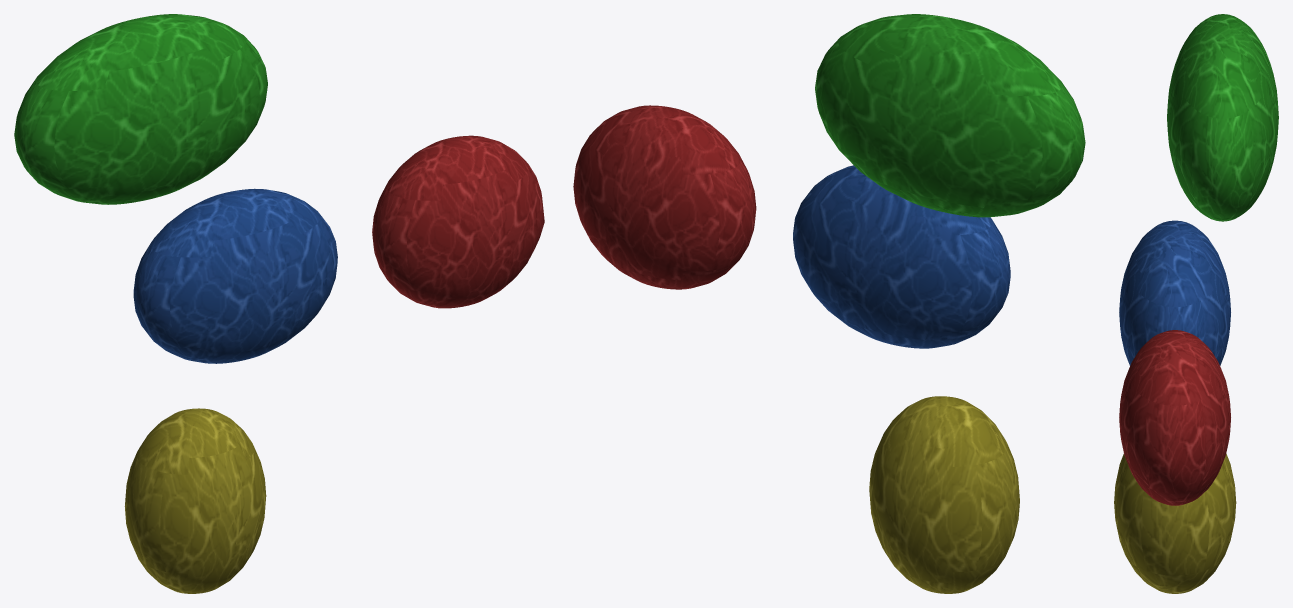
File: Batu_akik.fbx
3 views of the same model, side by side, from view 1: azimuth 30°, elevation 25°; view 2: azimuth 150°, elevation 25°; view 3: azimuth 270°, elevation 25° (orthographic). The views are drawn at different scales.
Visible parts, largest first — view 1: Akik4, Akik1, Akik 6, Akik2; view 2: Akik4, Akik1, Akik 6, Akik2; view 3: Akik4, Akik 6, Akik1, Akik2.
Part boxes in pixels (x1,y1,x2,y2): Akik4: (14,14,267,204); Akik1: (133,188,337,363); Akik 6: (372,135,544,308); Akik2: (124,408,266,593); Akik4: (815,14,1085,217); Akik1: (793,165,1010,348); Akik 6: (573,105,756,289); Akik2: (869,396,1019,593); Akik4: (1167,14,1278,221); Akik 6: (1119,330,1230,505); Akik1: (1119,220,1230,365); Akik2: (1114,454,1236,593).
Size of the model in its own units: 19.38 by 20.73 by 5.71.
Materials: 1 (1 with a texture image).
